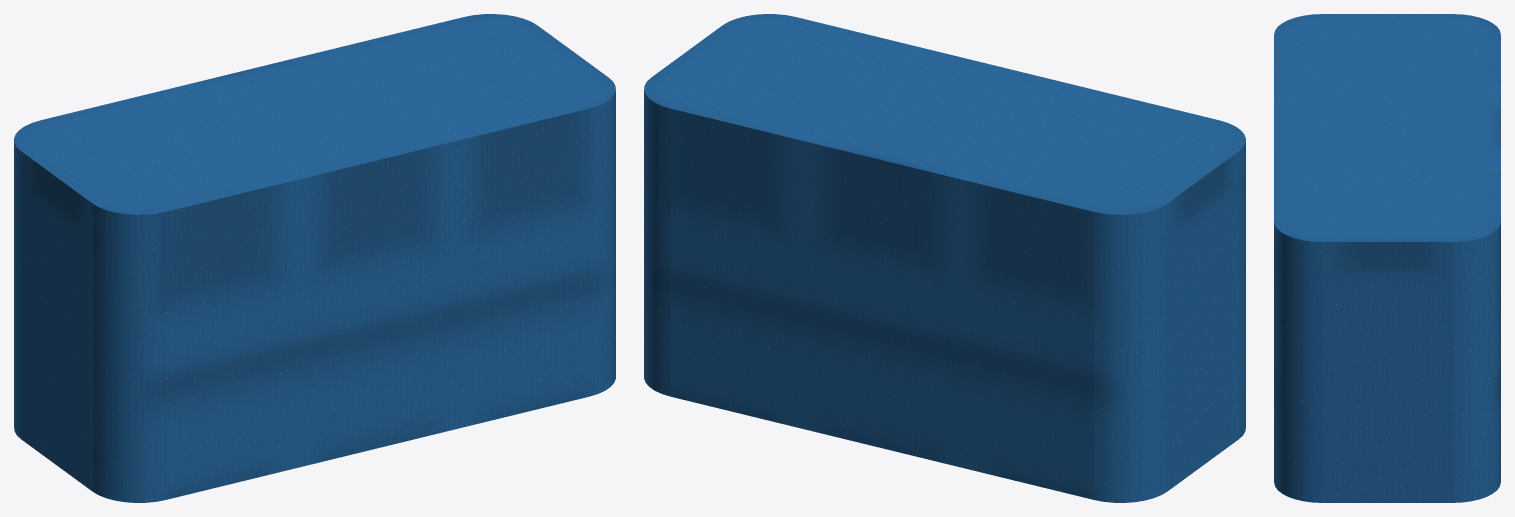
Rendered from 3-upright-tin-band-2-1.fbx.
The picture shows the model from 3 angles, left to right: view 1: azimuth 30°, elevation 25°; view 2: azimuth 150°, elevation 25°; view 3: azimuth 270°, elevation 25°; orthographic projection. The views are drawn at different scales.
Visible parts, largest first — view 1: upright-tin-band-2-1; view 2: upright-tin-band-2-1; view 3: upright-tin-band-2-1.
Part boxes in pixels (bbox=[...]): upright-tin-band-2-1: bbox=[14, 14, 615, 502]; upright-tin-band-2-1: bbox=[644, 14, 1245, 502]; upright-tin-band-2-1: bbox=[1274, 14, 1500, 502].
Size of the model in its own units: 10000 by 5333 by 4200.
Materials: 1 (1 with a texture image).
